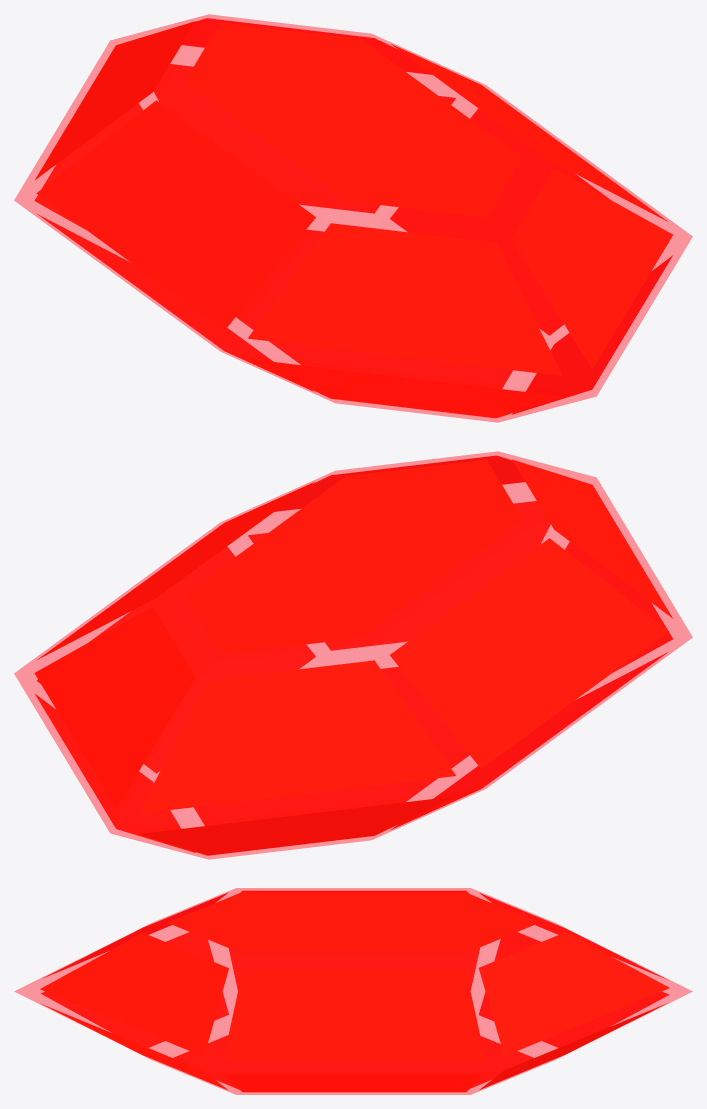
The model's file is CrystalRed.gltf.
3 renders of one model, top to bottom at view 1: azimuth 30°, elevation 25°; view 2: azimuth 150°, elevation 25°; view 3: azimuth 270°, elevation 25°, orthographic. The views are drawn at different scales.
Visible parts, largest first — view 1: CrystalRed; view 2: CrystalRed; view 3: CrystalRed.
Part boxes in pixels (bbox=[...]): CrystalRed: bbox=[14, 14, 692, 422]; CrystalRed: bbox=[14, 451, 692, 859]; CrystalRed: bbox=[14, 888, 692, 1094].
Size of the model in its own units: 0.2242 by 0.0892 by 0.3998.
